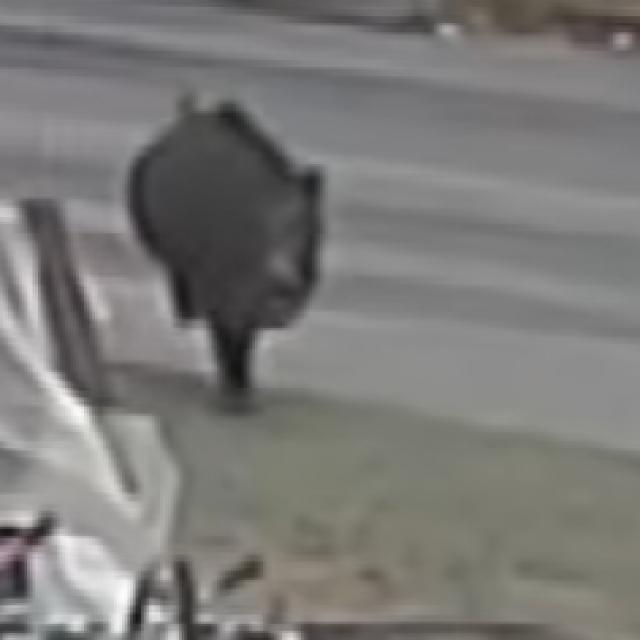boar: (56, 68, 381, 445)
